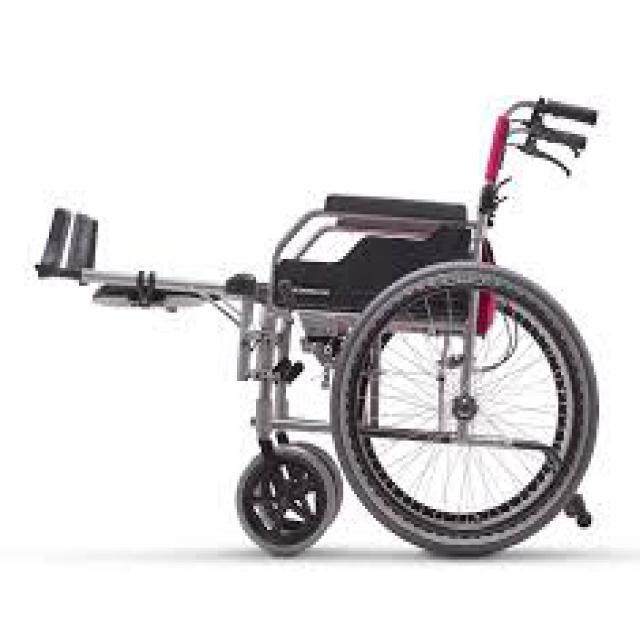wheelchair: (19, 78, 621, 602)
